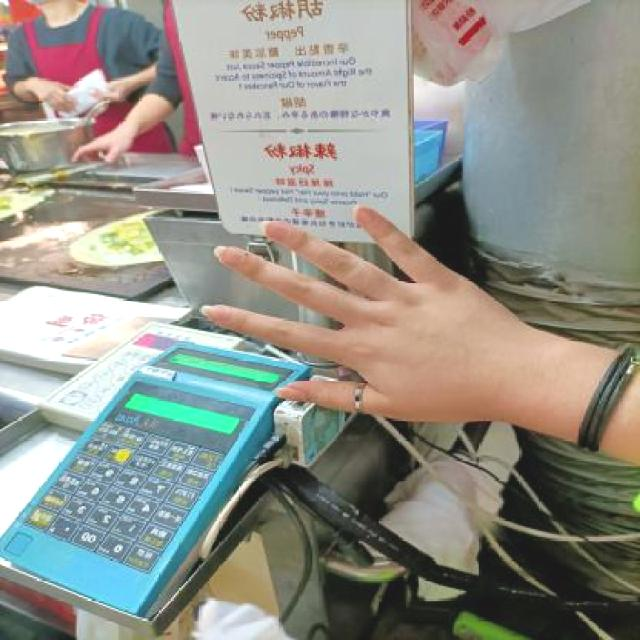no_glove: (182, 196, 556, 439)
